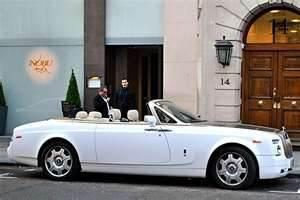Car: (4, 98, 300, 195)
